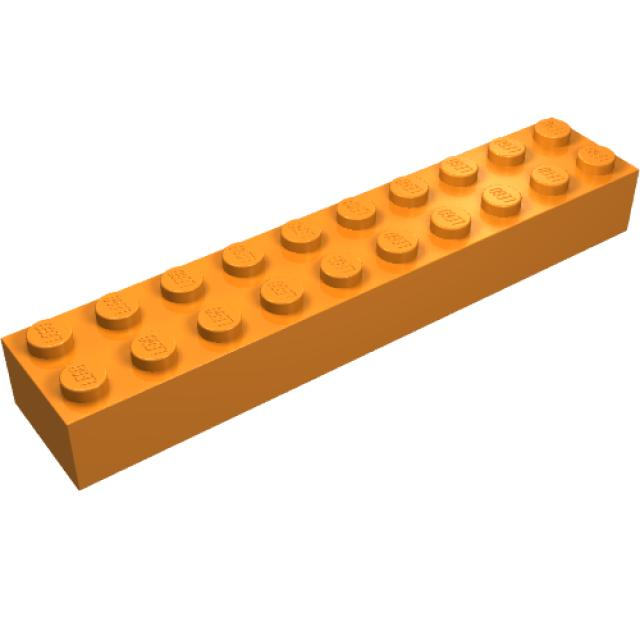Orange_Large: (1, 118, 640, 493)
